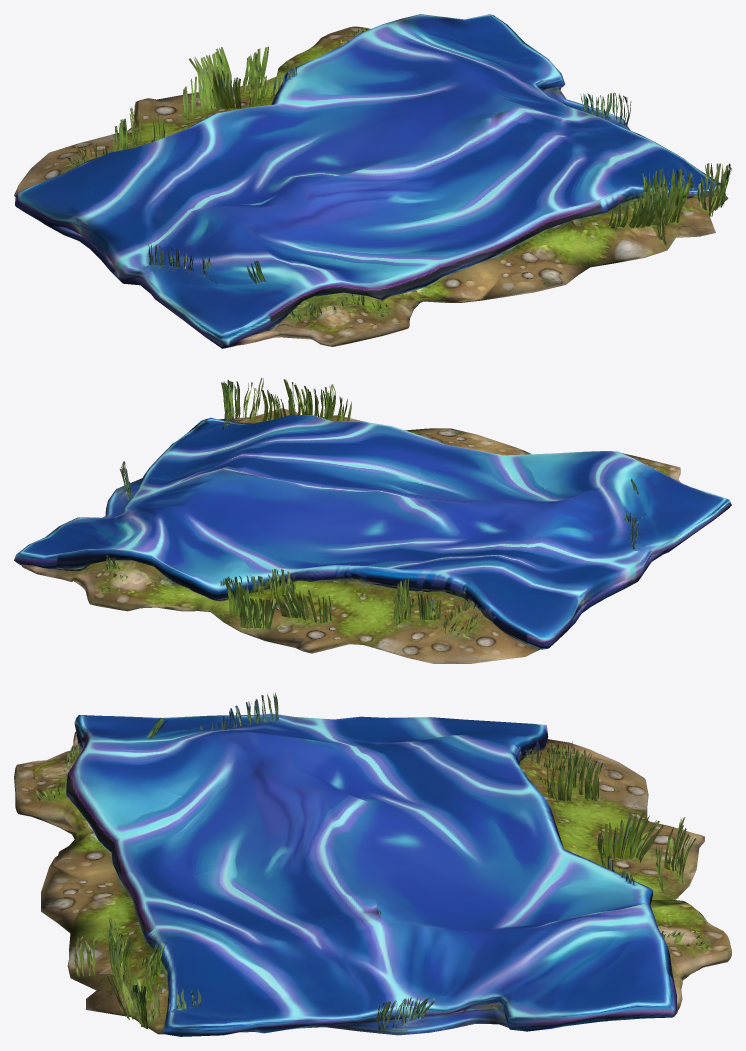
Rendered from Meshy_AI_Iridescent_Tarp_0721143424_texture.fbx.
The picture shows the model from 3 angles, top to bottom: view 1: azimuth 30°, elevation 25°; view 2: azimuth 150°, elevation 25°; view 3: azimuth 270°, elevation 25°; orthographic projection. The views are drawn at different scales.
Visible parts, largest first — view 1: mesh_node; view 2: mesh_node; view 3: mesh_node.
Part boxes in pixels (left/top/right/bottom): mesh_node: left=14, top=14, right=731, bottom=348; mesh_node: left=14, top=378, right=731, bottom=663; mesh_node: left=14, top=692, right=731, bottom=1036.
Size of the model in its own units: 98.83 by 10.62 by 99.22.
Materials: 1 (1 with a texture image).
